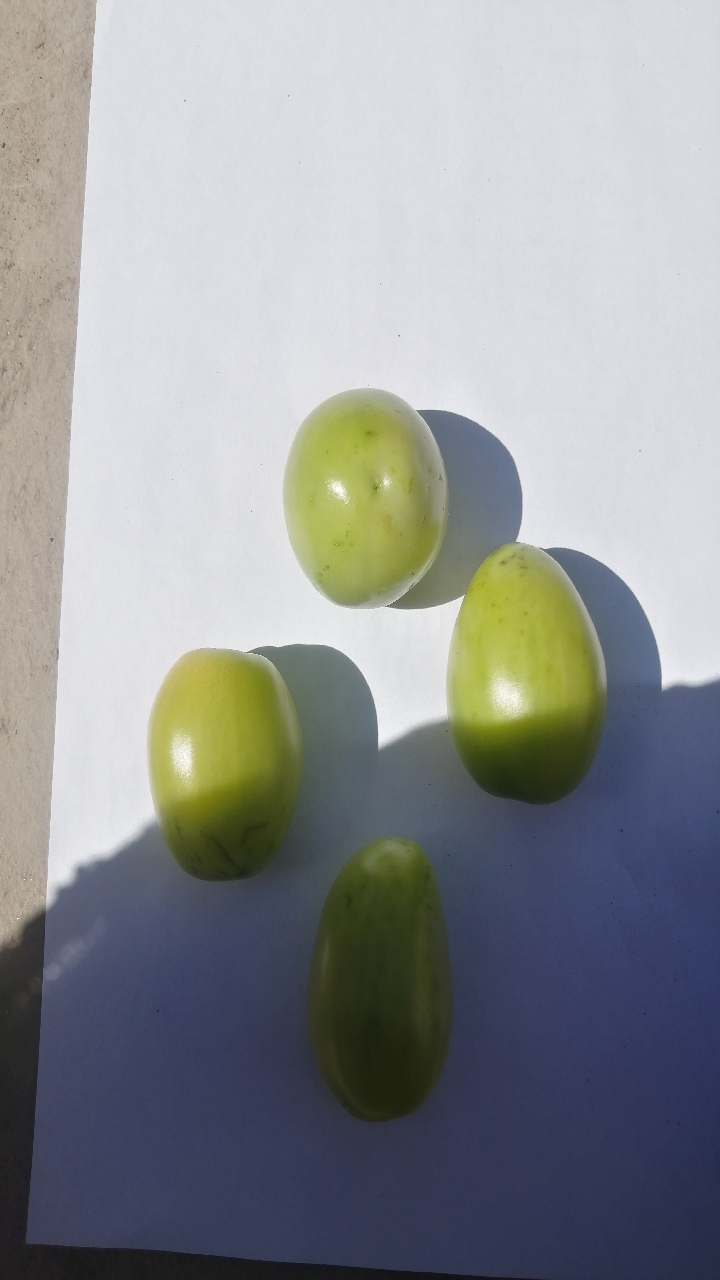tomateVerde: (420, 517, 621, 811), (289, 822, 478, 1134), (126, 626, 308, 888), (268, 368, 449, 631)
